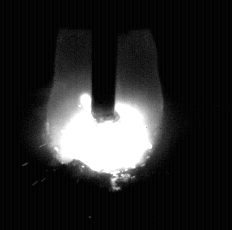arame: (92, 0, 117, 123)
poca: (46, 0, 162, 230)
